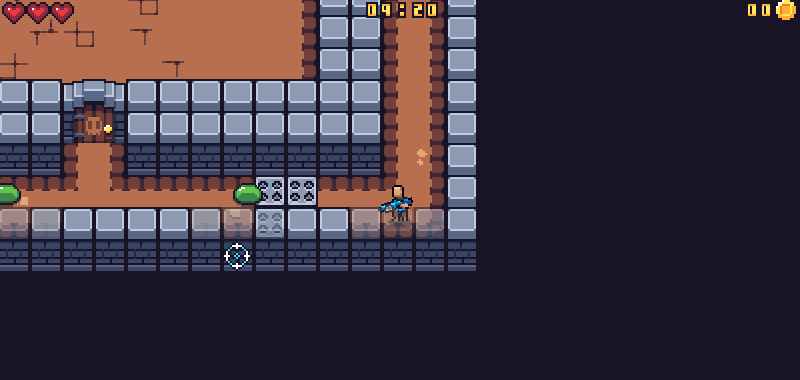door: (58, 78, 130, 141)
enemy_slug: (233, 182, 262, 205)
trap_off: (254, 176, 316, 239), (1, 185, 19, 206)
